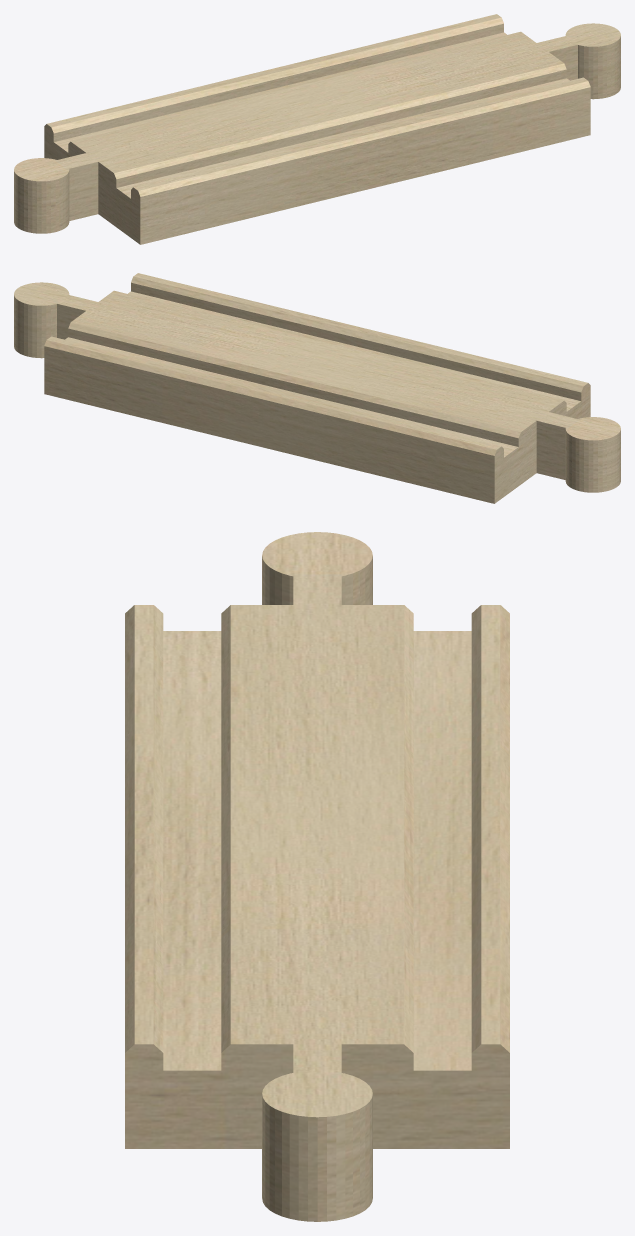
3 views of the same model, one above another, from view 1: azimuth 30°, elevation 25°; view 2: azimuth 150°, elevation 25°; view 3: azimuth 270°, elevation 25° (orthographic). The views are drawn at different scales.
Visible parts, largest first — view 1: SketchUp; view 2: SketchUp; view 3: SketchUp.
Boxes of the visible parts, x1,y1,x2,y2 form: SketchUp: [14, 14, 620, 244]; SketchUp: [14, 273, 620, 503]; SketchUp: [125, 532, 509, 1221].
Bounding box in the file's own units: 5.66 × 1.57 × 0.4724.
